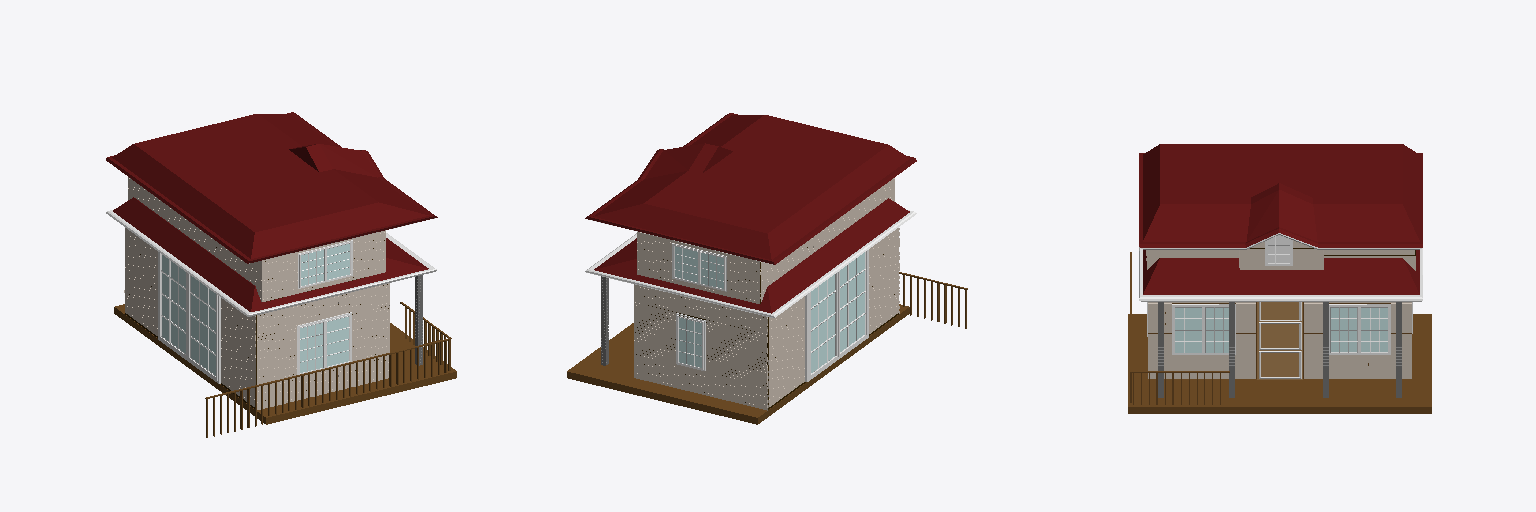
The model's file is house.obj.
3 views of the same model, side by side, from view 1: azimuth 30°, elevation 25°; view 2: azimuth 150°, elevation 25°; view 3: azimuth 270°, elevation 25° (orthographic).
Parts seen in each view (by area): view 1: pCube10, pCube2, polySurface59, pCube5, polySurface58, polySurface46, polySurface42, polySurface57, polySurface56, polySurface43, polySurface47, polySurface48 (+8 smaller); view 2: pCube10, pCube2, pCube5, polySurface59, polySurface53, polySurface26, polySurface58, polySurface29, polySurface57, polySurface28, polySurface56, polySurface27 (+3 smaller); view 3: pCube10, pCube5, pCube2, polySurface3 polySurface1, polySurface25, polySurface16 polySurface18, polySurface16 polySurface22, polySurface16 polySurface19, polySurface35, polySurface16 polySurface21, polySurface38, polySurface16 polySurface31 (+5 smaller).
Boxes of the visible parts, x1=… form: pCube10: x1=106, y1=112, x2=437, y2=263; pCube2: x1=106, y1=197, x2=436, y2=316; polySurface59: x1=158, y1=252, x2=220, y2=383; pCube5: x1=114, y1=304, x2=456, y2=424; polySurface58: x1=125, y1=265, x2=255, y2=406; polySurface46: x1=257, y1=283, x2=389, y2=337; polySurface42: x1=297, y1=312, x2=351, y2=374; polySurface57: x1=125, y1=228, x2=255, y2=359; polySurface56: x1=128, y1=177, x2=261, y2=301; polySurface43: x1=257, y1=355, x2=388, y2=409; polySurface47: x1=298, y1=240, x2=352, y2=288; polySurface48: x1=262, y1=248, x2=385, y2=301; pCube10: x1=585, y1=113, x2=916, y2=264; pCube2: x1=585, y1=198, x2=916, y2=317; pCube5: x1=567, y1=304, x2=909, y2=424; polySurface59: x1=805, y1=250, x2=868, y2=381; polySurface53: x1=637, y1=232, x2=760, y2=303; polySurface26: x1=634, y1=354, x2=767, y2=410; polySurface58: x1=768, y1=265, x2=898, y2=407; polySurface29: x1=706, y1=320, x2=767, y2=385; polySurface57: x1=769, y1=228, x2=899, y2=358; polySurface28: x1=634, y1=284, x2=767, y2=334; polySurface56: x1=761, y1=178, x2=894, y2=301; polySurface27: x1=634, y1=302, x2=675, y2=363; pCube10: x1=1139, y1=144, x2=1422, y2=249; pCube5: x1=1128, y1=314, x2=1431, y2=413; pCube2: x1=1139, y1=247, x2=1422, y2=301; polySurface3 polySurface1: x1=1257, y1=302, x2=1302, y2=379; polySurface25: x1=1304, y1=355, x2=1411, y2=378; polySurface16 polySurface18: x1=1359, y1=306, x2=1389, y2=353; polySurface16 polySurface22: x1=1173, y1=306, x2=1203, y2=353; polySurface16 polySurface19: x1=1329, y1=306, x2=1358, y2=353; polySurface35: x1=1240, y1=246, x2=1323, y2=269; polySurface16 polySurface21: x1=1204, y1=306, x2=1228, y2=353; polySurface38: x1=1146, y1=250, x2=1238, y2=269; polySurface16 polySurface31: x1=1267, y1=235, x2=1290, y2=264.
Size of the model in its own units: 9.88 by 7.33 by 10.4.